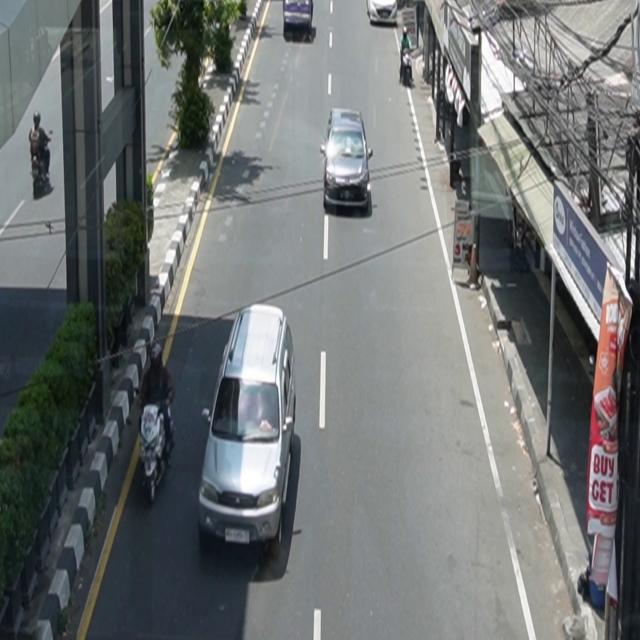car: (198, 304, 297, 554), (321, 108, 374, 214), (284, 1, 315, 34), (367, 1, 398, 26)
